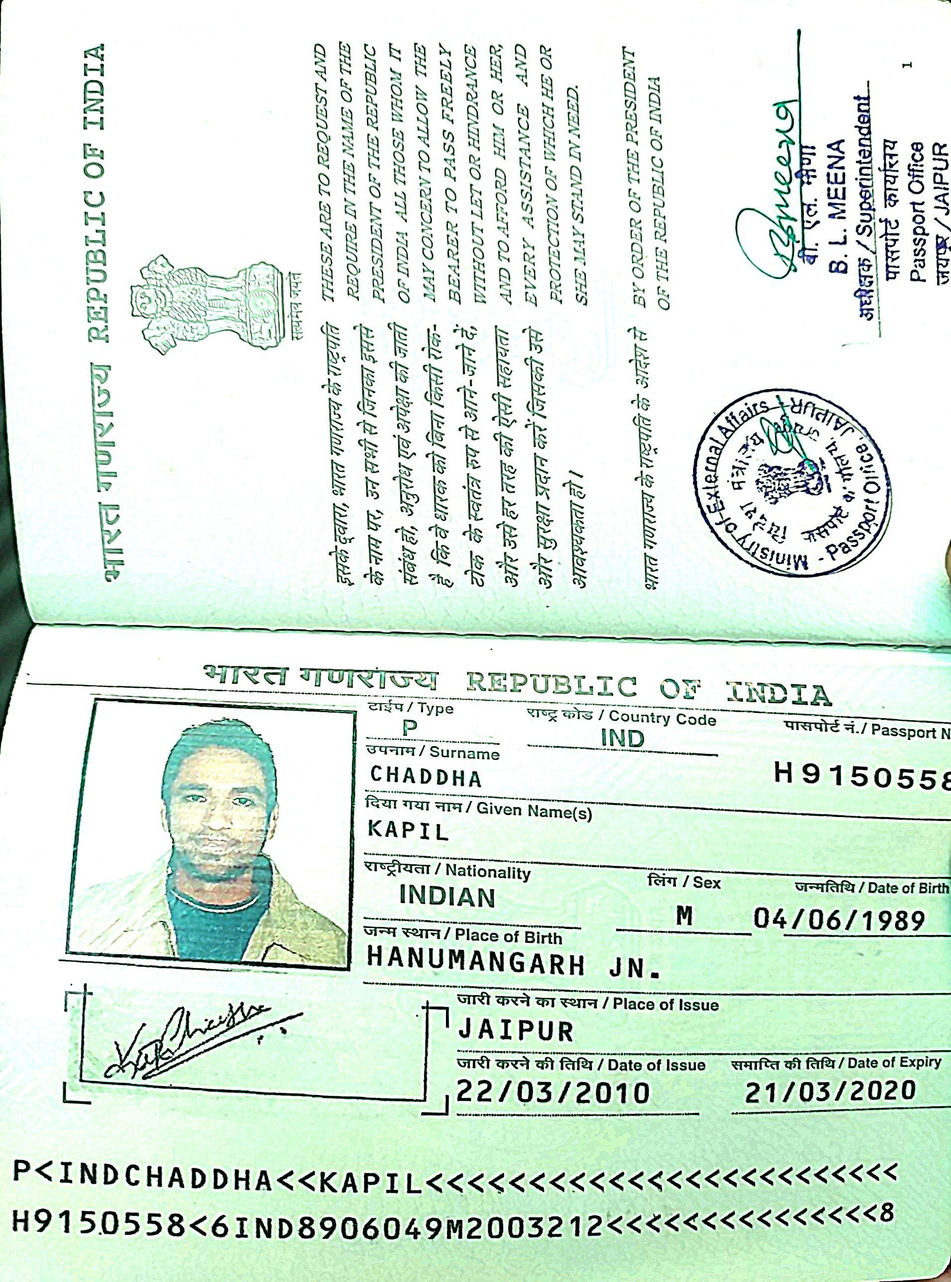DOB: (749, 899, 932, 940)
Surname: (367, 761, 493, 792)
country_code: (592, 721, 654, 757)
date_of_expiry: (731, 1073, 924, 1117)
date_of_issue: (448, 1077, 664, 1118)
details: (2, 1141, 911, 1252)
name: (358, 816, 451, 848)
nationality: (386, 878, 504, 916)
passport_no: (763, 753, 951, 809)
photo: (87, 701, 339, 959)
place_of_birth: (362, 939, 672, 980)
place_of_issue: (450, 1010, 591, 1051)
sex: (665, 894, 706, 934)
sign: (93, 990, 312, 1078)
type: (390, 711, 425, 745)
